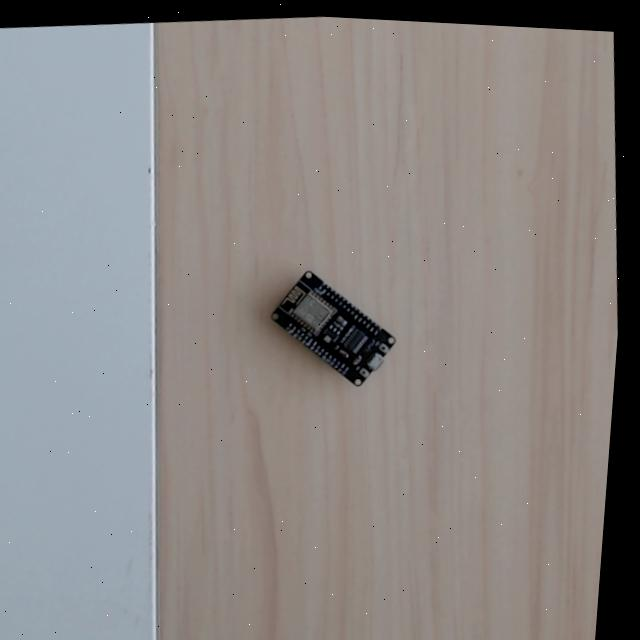ESP8266-NodeMCU: (268, 264, 403, 392)
